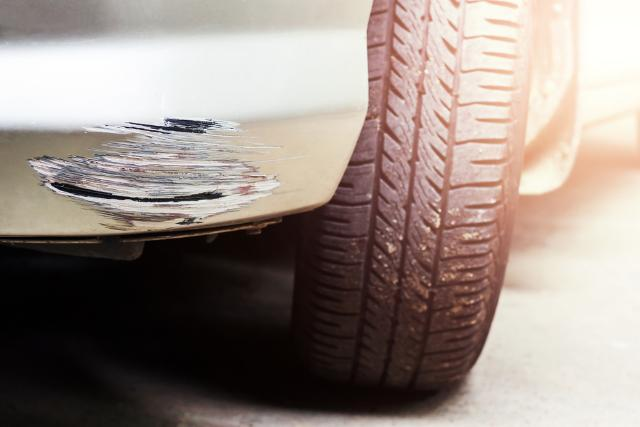scratch: (7, 113, 291, 233)
